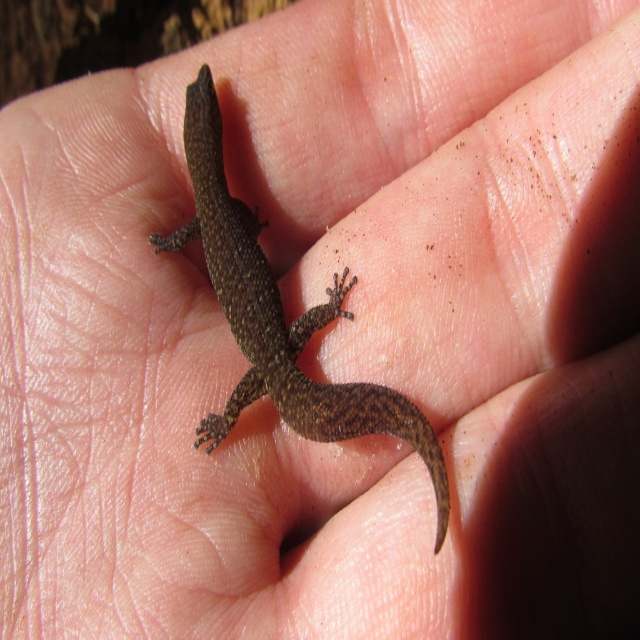Lizard: (148, 61, 454, 554)
